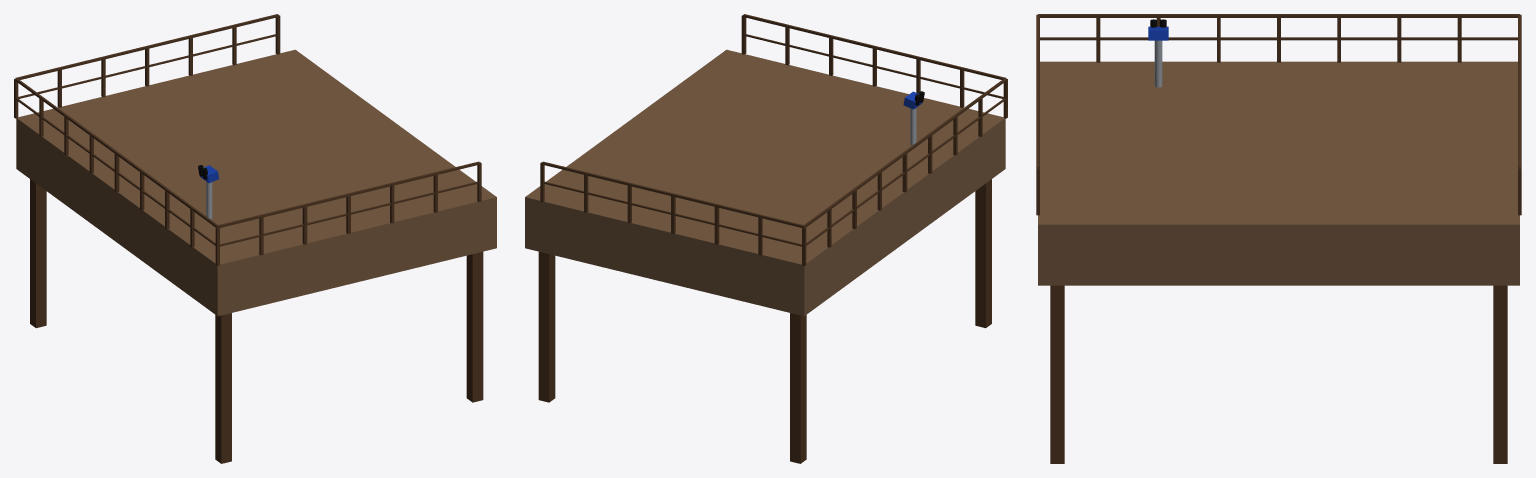
File: SM_Cliffs_Viewpoint.fbx
3 views of the same model, side by side, from view 1: azimuth 30°, elevation 25°; view 2: azimuth 150°, elevation 25°; view 3: azimuth 270°, elevation 25° (orthographic). The views are drawn at different scales.
Parts seen in each view (by area): view 1: SM_Cliffs_Viewpoint; view 2: SM_Cliffs_Viewpoint; view 3: SM_Cliffs_Viewpoint.
Part boxes in pixels (x1,y1,x2,y2): SM_Cliffs_Viewpoint: [14, 14, 496, 463]; SM_Cliffs_Viewpoint: [525, 14, 1007, 463]; SM_Cliffs_Viewpoint: [1036, 14, 1521, 463].
Bounding box in the file's own units: 8.04 × 7.03 × 10.08.
